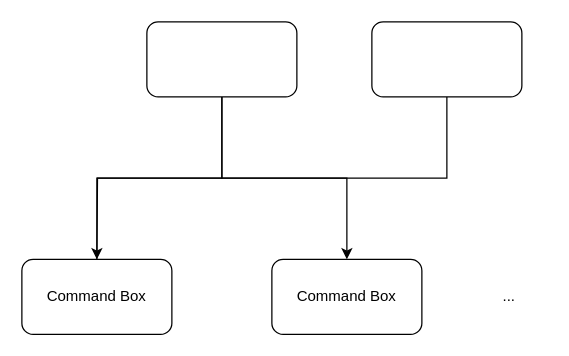
Image size: 569x356. Some labels were removed from this diagram. Here are the shapes that lost their labels. From the top down, the centre of each, then its label:
At point 221,59: "PWM Sync singal Device".
At point 446,59: "Command Center".
